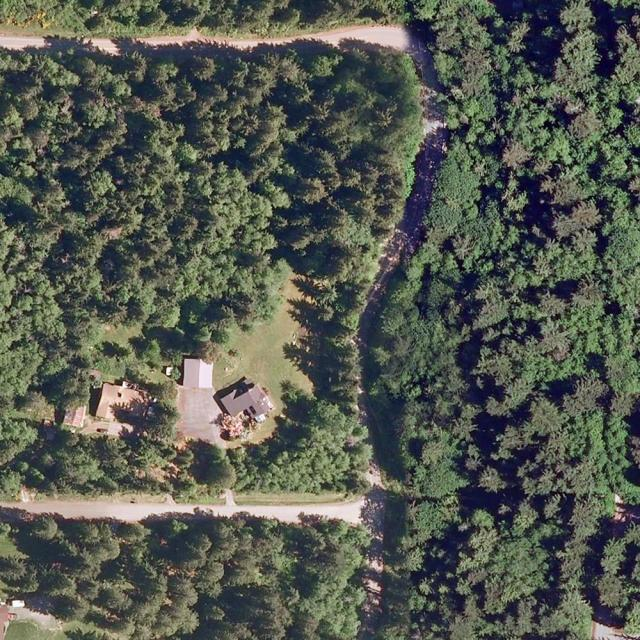building: (211, 369, 278, 437), (95, 378, 145, 428), (182, 358, 214, 389), (62, 404, 86, 429), (0, 604, 10, 640)
greenland: (0, 401, 370, 501)
metalled_road: (211, 6, 432, 70), (0, 495, 367, 530), (400, 42, 454, 268), (349, 225, 419, 360), (358, 481, 395, 640), (0, 37, 50, 49), (90, 37, 121, 55), (139, 38, 191, 45)
